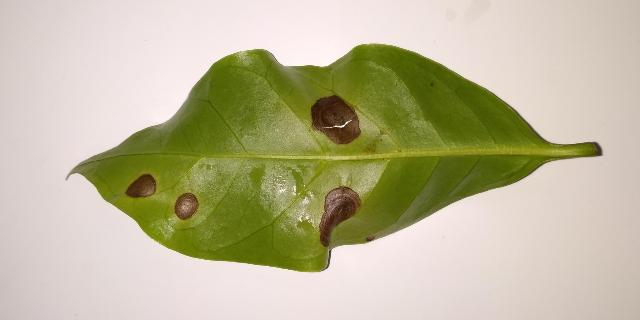rust: (319, 187, 361, 246), (311, 96, 360, 144), (126, 174, 156, 197), (175, 193, 198, 219), (367, 236, 376, 242)
